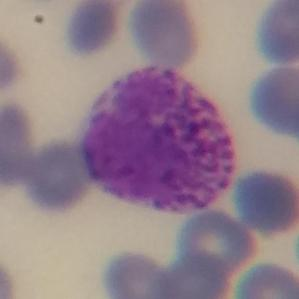Basophil: (74, 55, 249, 225)
RBC: (175, 206, 260, 274), (125, 0, 204, 70), (22, 139, 94, 215), (229, 165, 299, 238), (245, 60, 299, 146), (62, 0, 134, 60), (154, 249, 234, 299), (0, 98, 42, 192), (98, 248, 174, 299), (251, 0, 299, 67), (232, 258, 299, 298), (0, 31, 24, 100), (0, 251, 20, 298)
